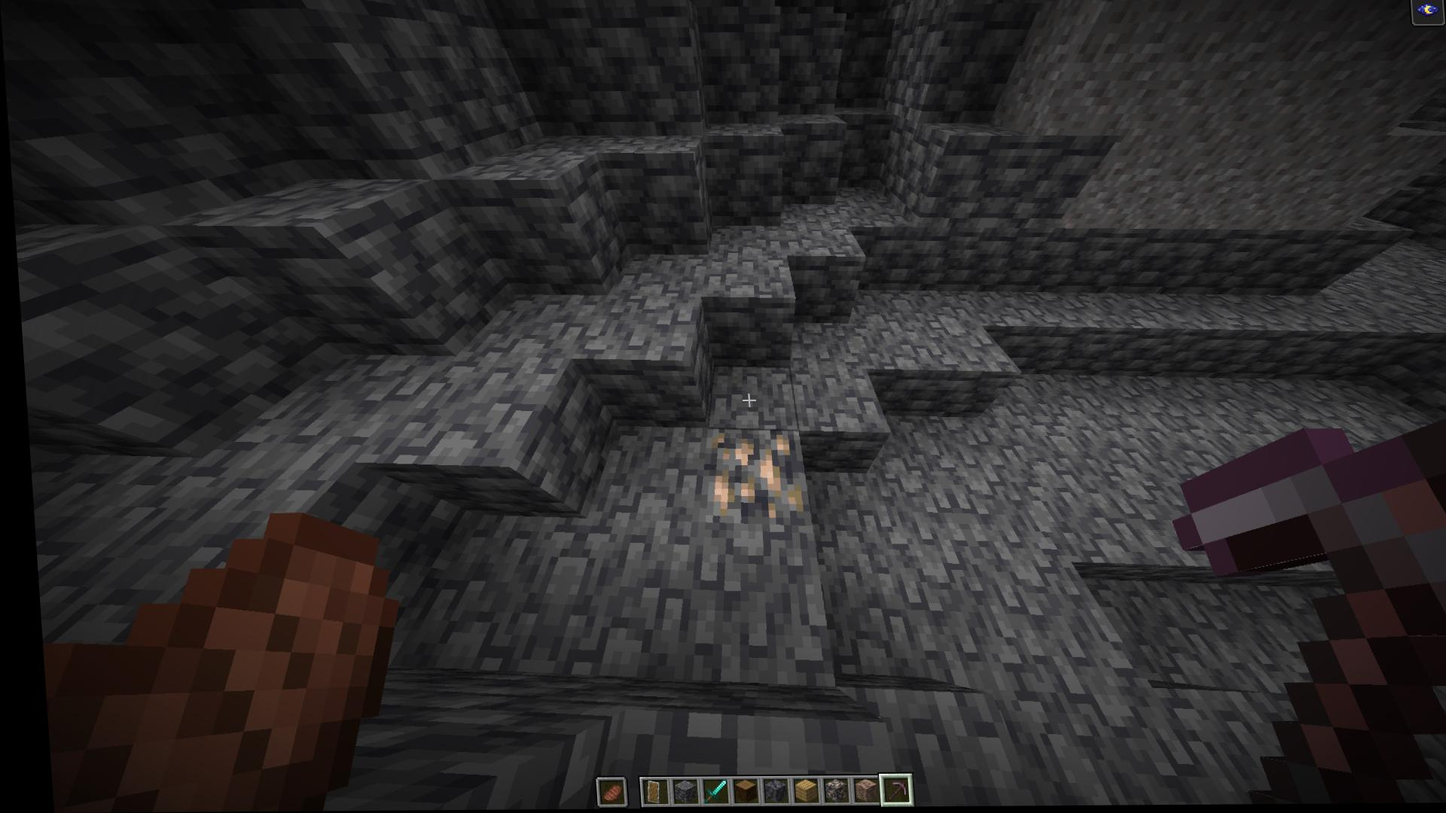iron ore: (696, 430, 802, 522)
